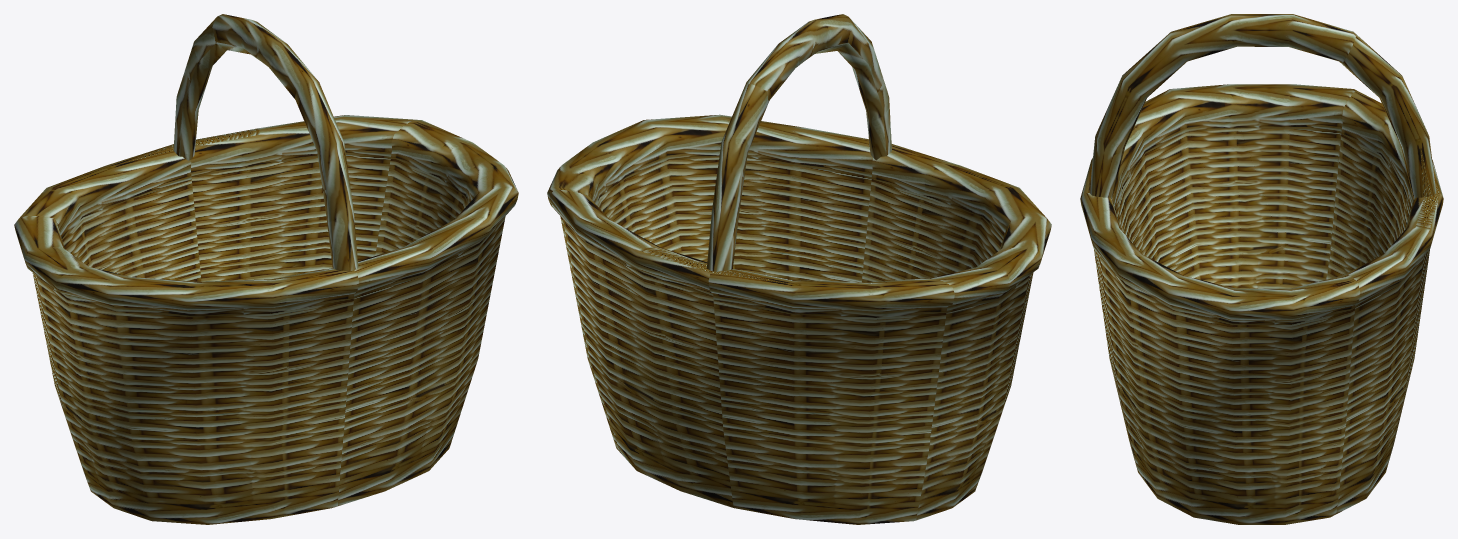
Rendered from basket.fbx.
3 views of the same model, side by side, from view 1: azimuth 30°, elevation 25°; view 2: azimuth 150°, elevation 25°; view 3: azimuth 270°, elevation 25° (orthographic).
Visible parts, largest first — view 1: Cylinder; view 2: Cylinder; view 3: Cylinder.
Boxes of the visible parts, x1,y1,x2,y2 form: Cylinder: (14,14,518,524); Cylinder: (547,14,1051,524); Cylinder: (1080,14,1443,524).
Size of the model in its own units: 44.16 by 39.97 by 30.67.
